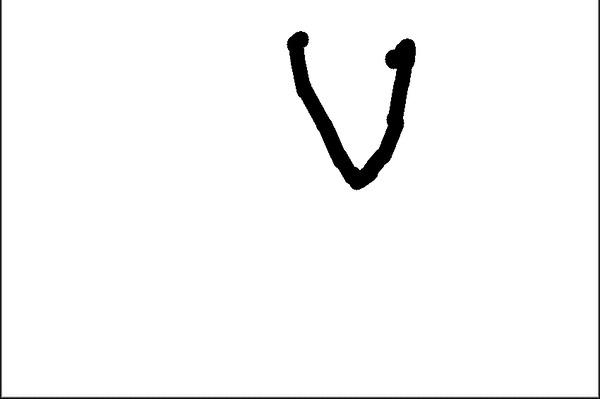V: (274, 18, 425, 194)
